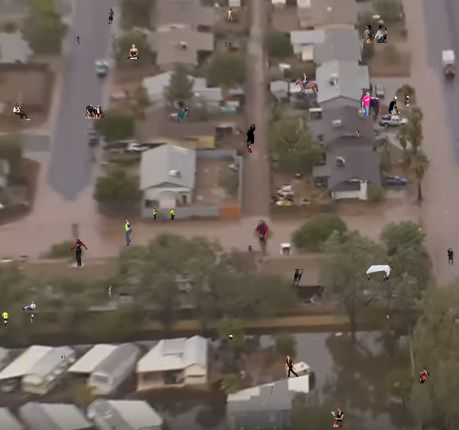Human: (407, 367, 430, 390), (169, 103, 190, 128), (294, 73, 319, 94), (70, 239, 88, 268), (2, 312, 34, 328), (360, 92, 381, 116), (361, 25, 389, 43), (366, 264, 394, 282), (254, 219, 269, 252), (388, 96, 412, 114), (244, 122, 256, 153), (12, 103, 31, 121), (285, 355, 299, 377), (153, 206, 175, 220), (86, 105, 108, 119), (288, 269, 304, 287), (221, 7, 240, 21), (124, 215, 132, 246), (331, 408, 344, 427), (127, 44, 140, 59), (446, 248, 455, 267), (21, 301, 36, 311), (108, 8, 114, 25), (75, 36, 82, 45), (108, 285, 112, 298), (224, 42, 231, 48), (356, 130, 360, 137), (229, 335, 233, 341), (61, 355, 66, 359), (418, 226, 421, 232), (386, 315, 389, 321), (271, 386, 273, 395)
